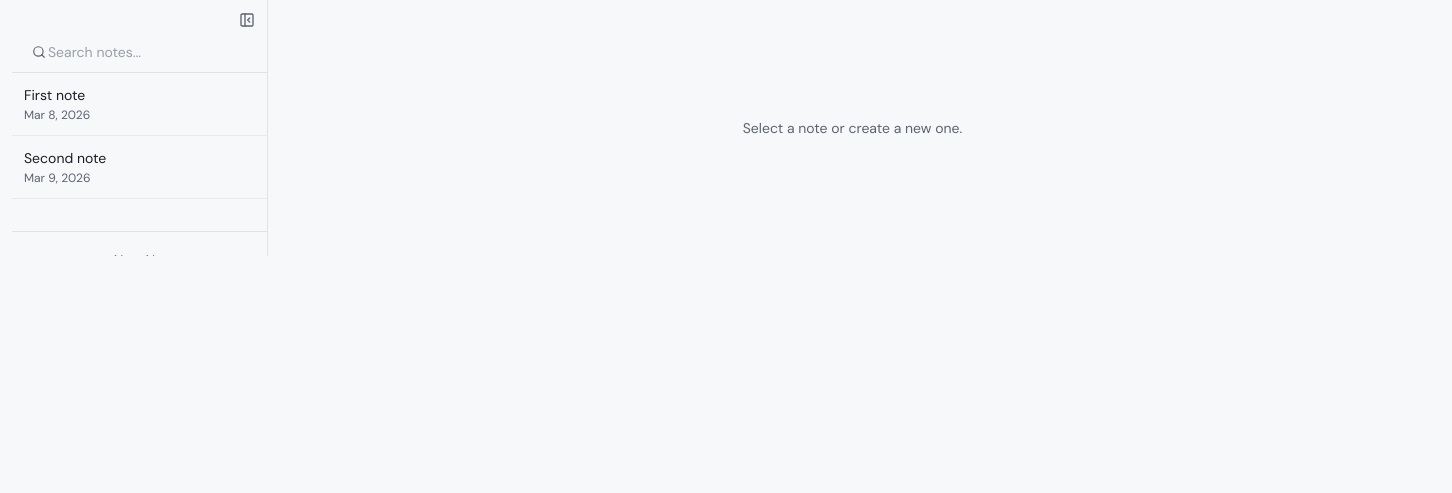
Scenario: NotesBrowsePage › ignores late note responses after the user switches to a different note
Click the button "First note Mar 8, 2026".
click(140, 104)  # box [12, 73, 267, 136]
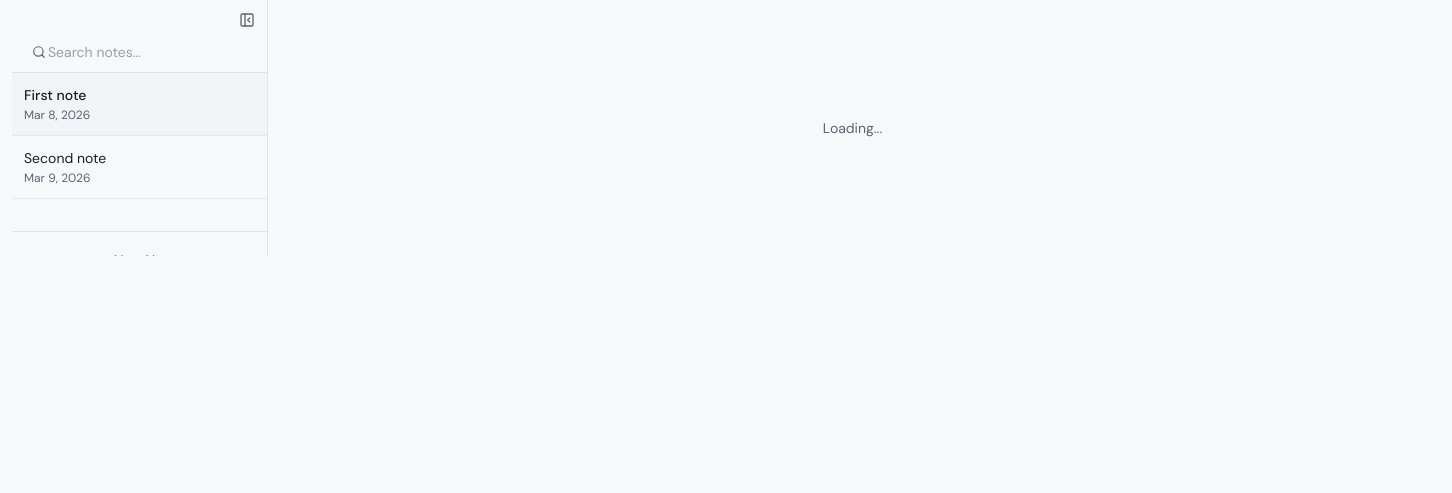
Click the button "Second note Mar 9, 2026".
click(140, 168)  # box [12, 136, 267, 199]
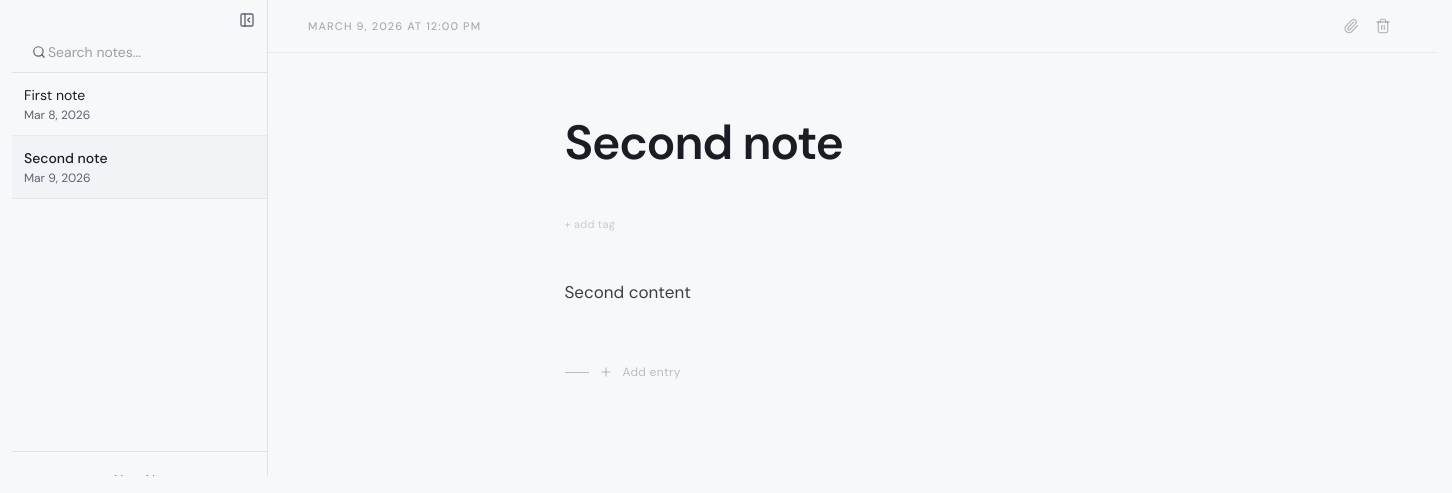
Now the text box "Second content" is shown, box [564, 281, 691, 303]
